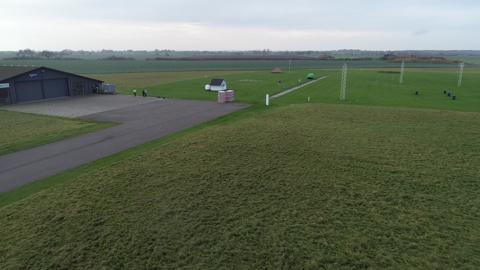RockwoolPallet: (226, 89, 234, 101)
